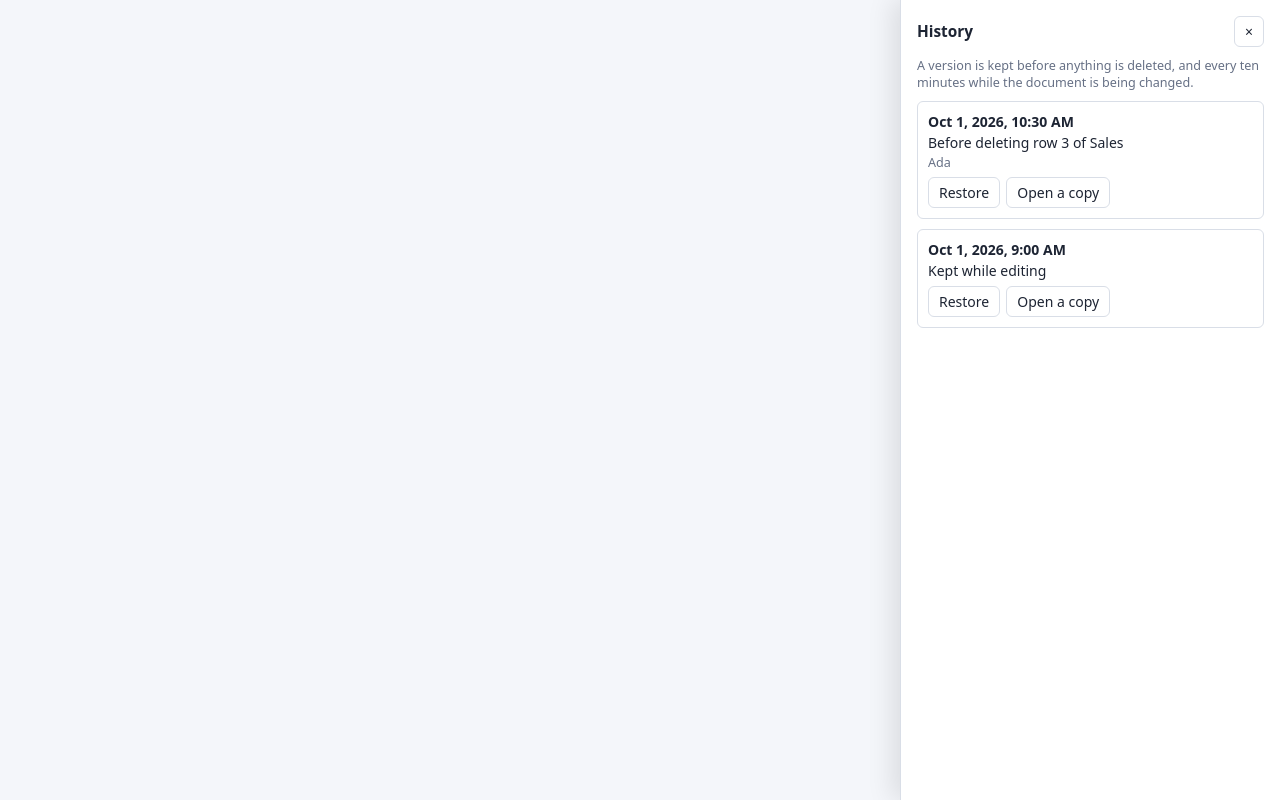
Test: HistoryPanel › shows why a restore failed
Click the button "Restore" below "Oct 1, 2026, 10:30 AM" at [964, 192], box [928,177,1000,208]
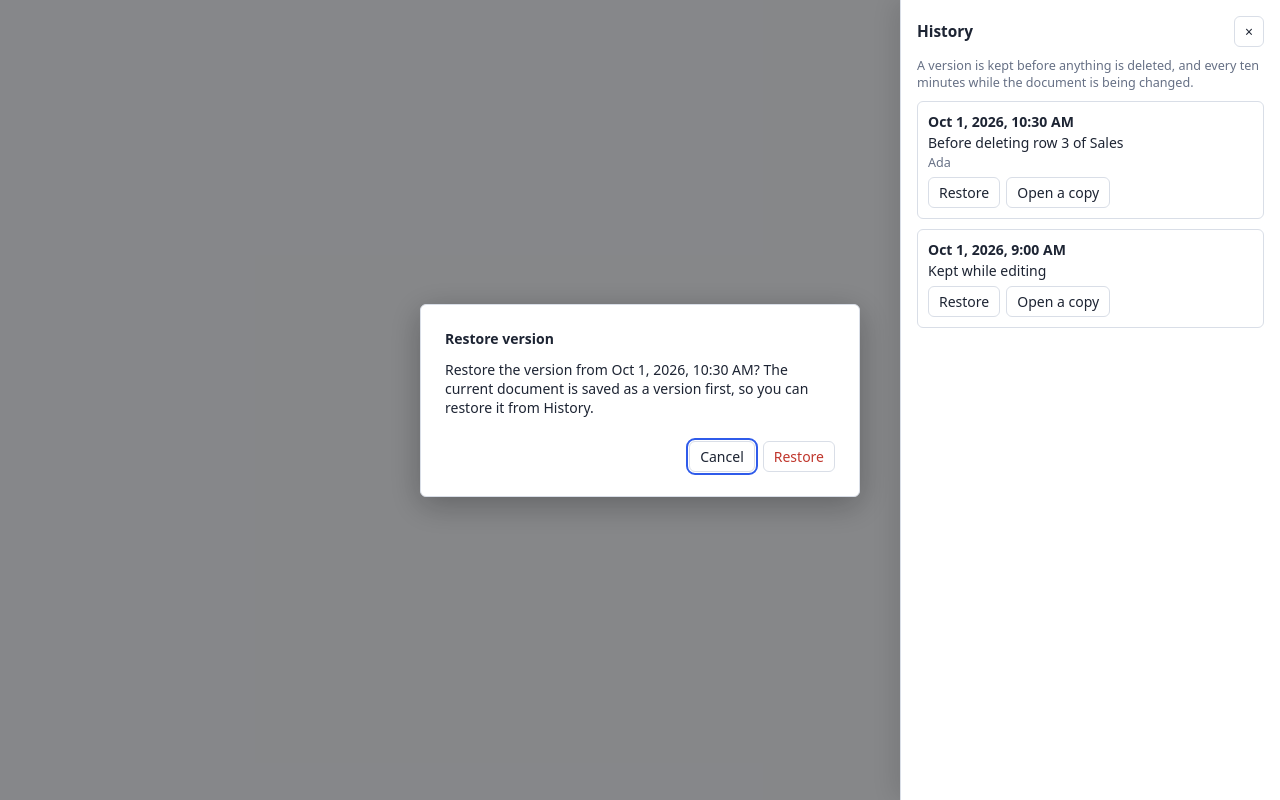
Check: the dialog with class "dialog-host" shows "Restore the version from", box [445,360,812,416]
Click the button "Restore" below "Restore version" at [799, 456], box [763,440,835,472]
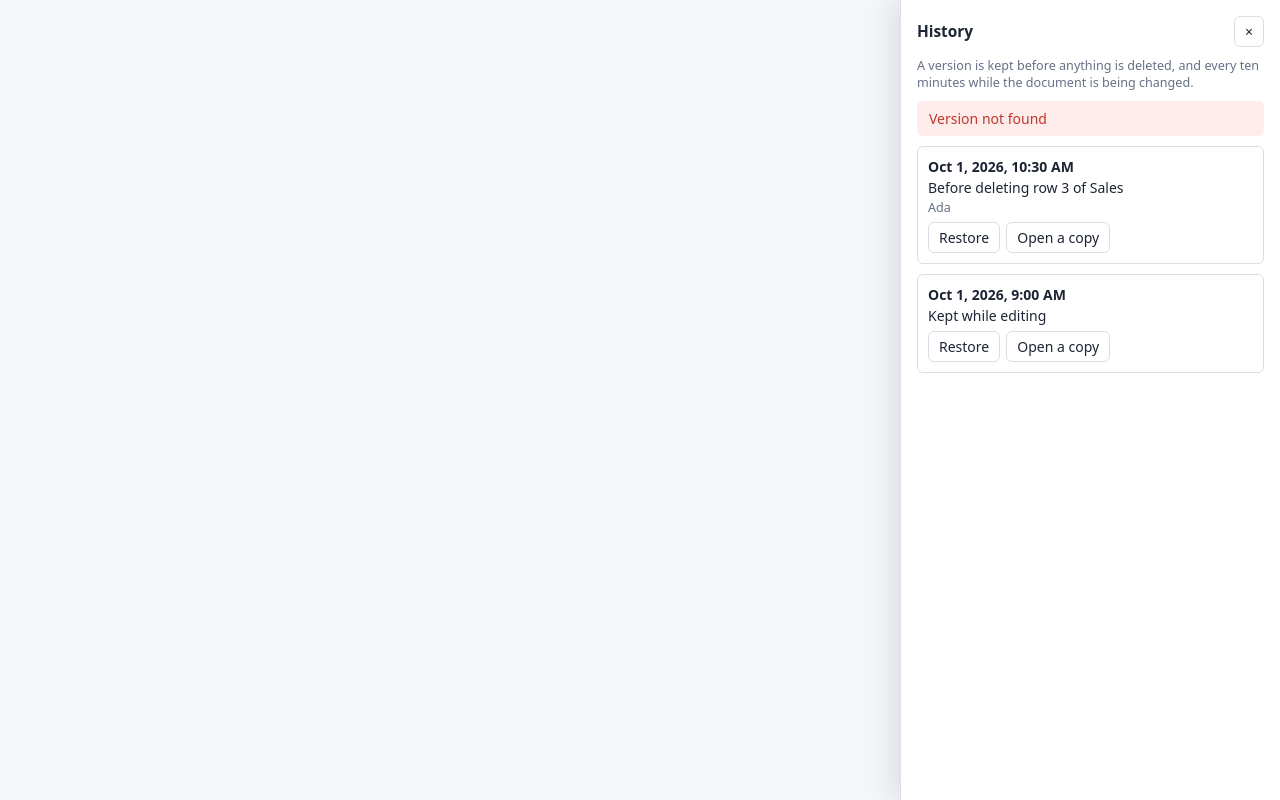
Check: the message "Version not found" is shown, box [917,101,1264,136]
